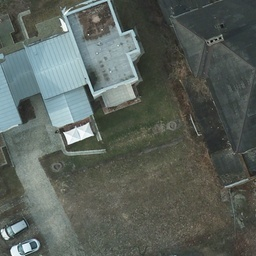car: (2, 216, 30, 241), (11, 239, 39, 256)
